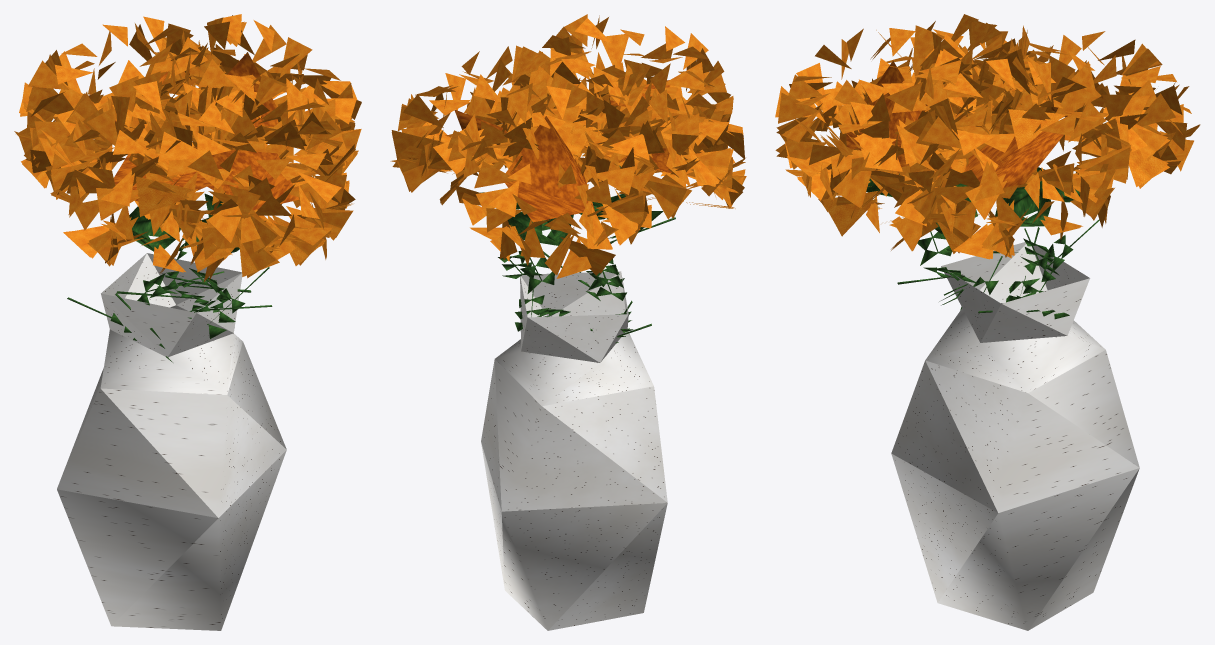
Rendered from florero_lod.obj.
3 views of the same model, side by side, from view 1: azimuth 30°, elevation 25°; view 2: azimuth 150°, elevation 25°; view 3: azimuth 270°, elevation 25° (orthographic). The views are drawn at different scales.
Parts seen in each view (by area): view 1: Florero, Flor_Cempasuchil.005, Flor_Cempasuchil.003, Flor_Cempasuchil.002, Flor_Cempasuchil.001, Flor_Cempasuchil.004; view 2: Florero, Flor_Cempasuchil.001, Flor_Cempasuchil.002, Flor_Cempasuchil.003, Flor_Cempasuchil.005, Flor_Cempasuchil.004; view 3: Florero, Flor_Cempasuchil.002, Flor_Cempasuchil.005, Flor_Cempasuchil.001, Flor_Cempasuchil.004, Flor_Cempasuchil.003.
Boxes of the visible parts, left/top/right/bottom form: Florero: left=57, top=253, right=286, bottom=630; Flor_Cempasuchil.005: left=131, top=74, right=355, bottom=338; Flor_Cempasuchil.003: left=45, top=76, right=266, bottom=340; Flor_Cempasuchil.002: left=145, top=14, right=361, bottom=292; Flor_Cempasuchil.001: left=14, top=16, right=243, bottom=302; Flor_Cempasuchil.004: left=115, top=83, right=349, bottom=362; Florero: left=481, top=271, right=667, bottom=630; Flor_Cempasuchil.001: left=439, top=83, right=654, bottom=330; Flor_Cempasuchil.002: left=390, top=45, right=598, bottom=331; Flor_Cempasuchil.003: left=571, top=65, right=746, bottom=343; Flor_Cempasuchil.005: left=520, top=14, right=733, bottom=300; Flor_Cempasuchil.004: left=486, top=66, right=694, bottom=329; Florero: left=891, top=242, right=1139, bottom=630; Flor_Cempasuchil.002: left=899, top=50, right=1131, bottom=319; Flor_Cempasuchil.005: left=775, top=25, right=992, bottom=305; Flor_Cempasuchil.001: left=979, top=31, right=1200, bottom=297; Flor_Cempasuchil.004: left=818, top=58, right=1037, bottom=310; Flor_Cempasuchil.003: left=838, top=14, right=1055, bottom=302.
Bounding box in the file's own units: 0.2838 × 0.4865 × 0.3316.
Materials: 4 (4 with a texture image).
